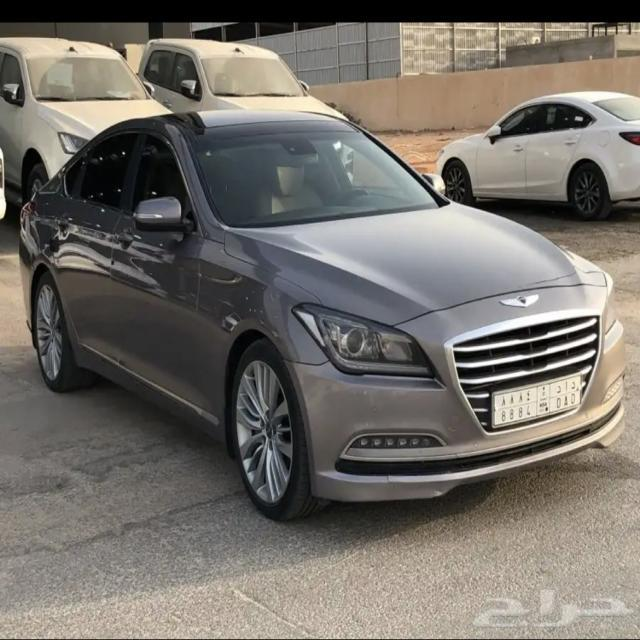license_plate: (494, 374, 584, 417)
